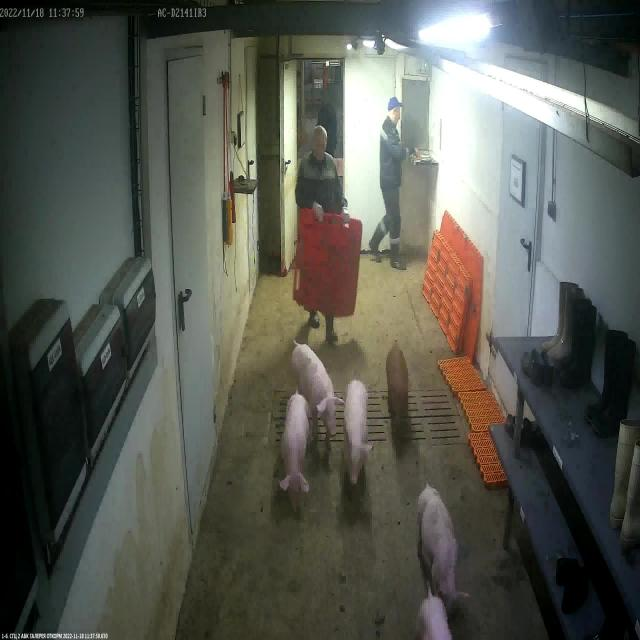pig: (418, 485, 470, 607), (292, 344, 344, 435), (280, 394, 310, 511), (343, 379, 372, 493), (388, 348, 408, 429), (420, 595, 452, 640)
